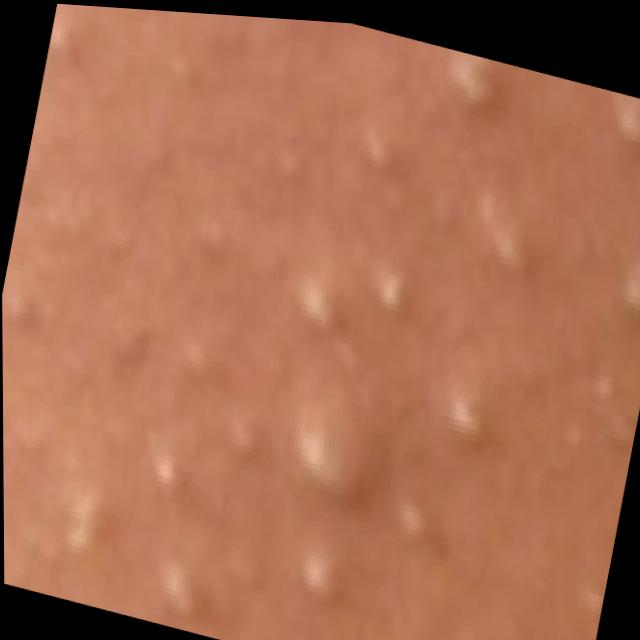whitehead: (35, 35, 640, 640)
